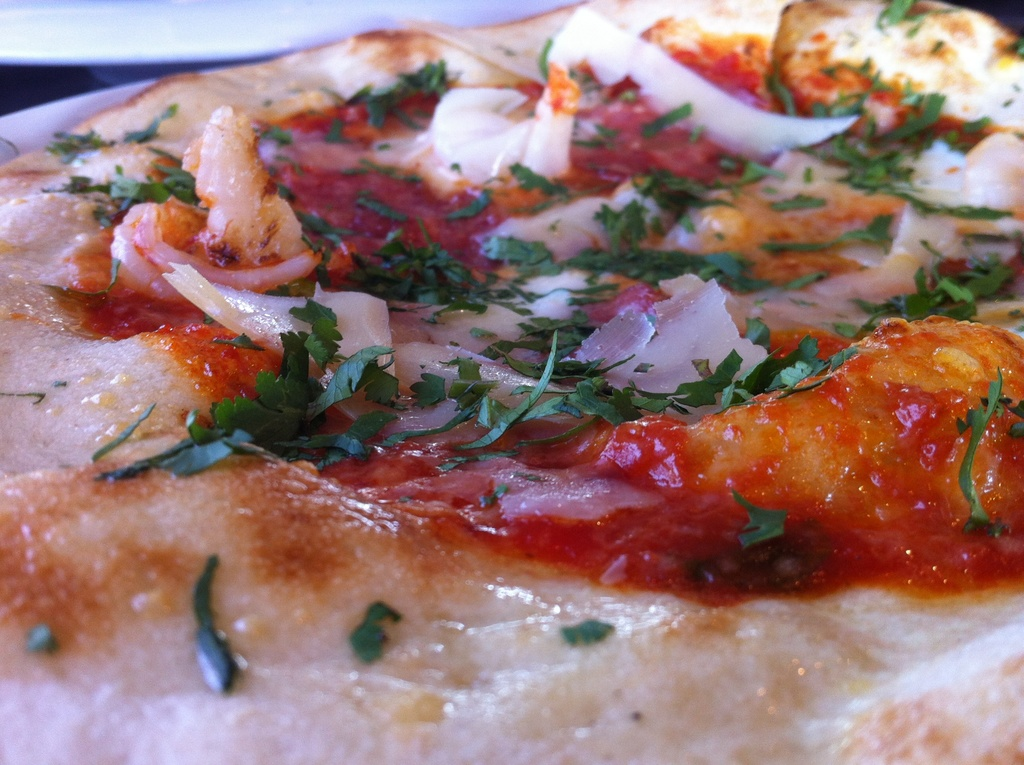Pizza: (0, 5, 1011, 765)
